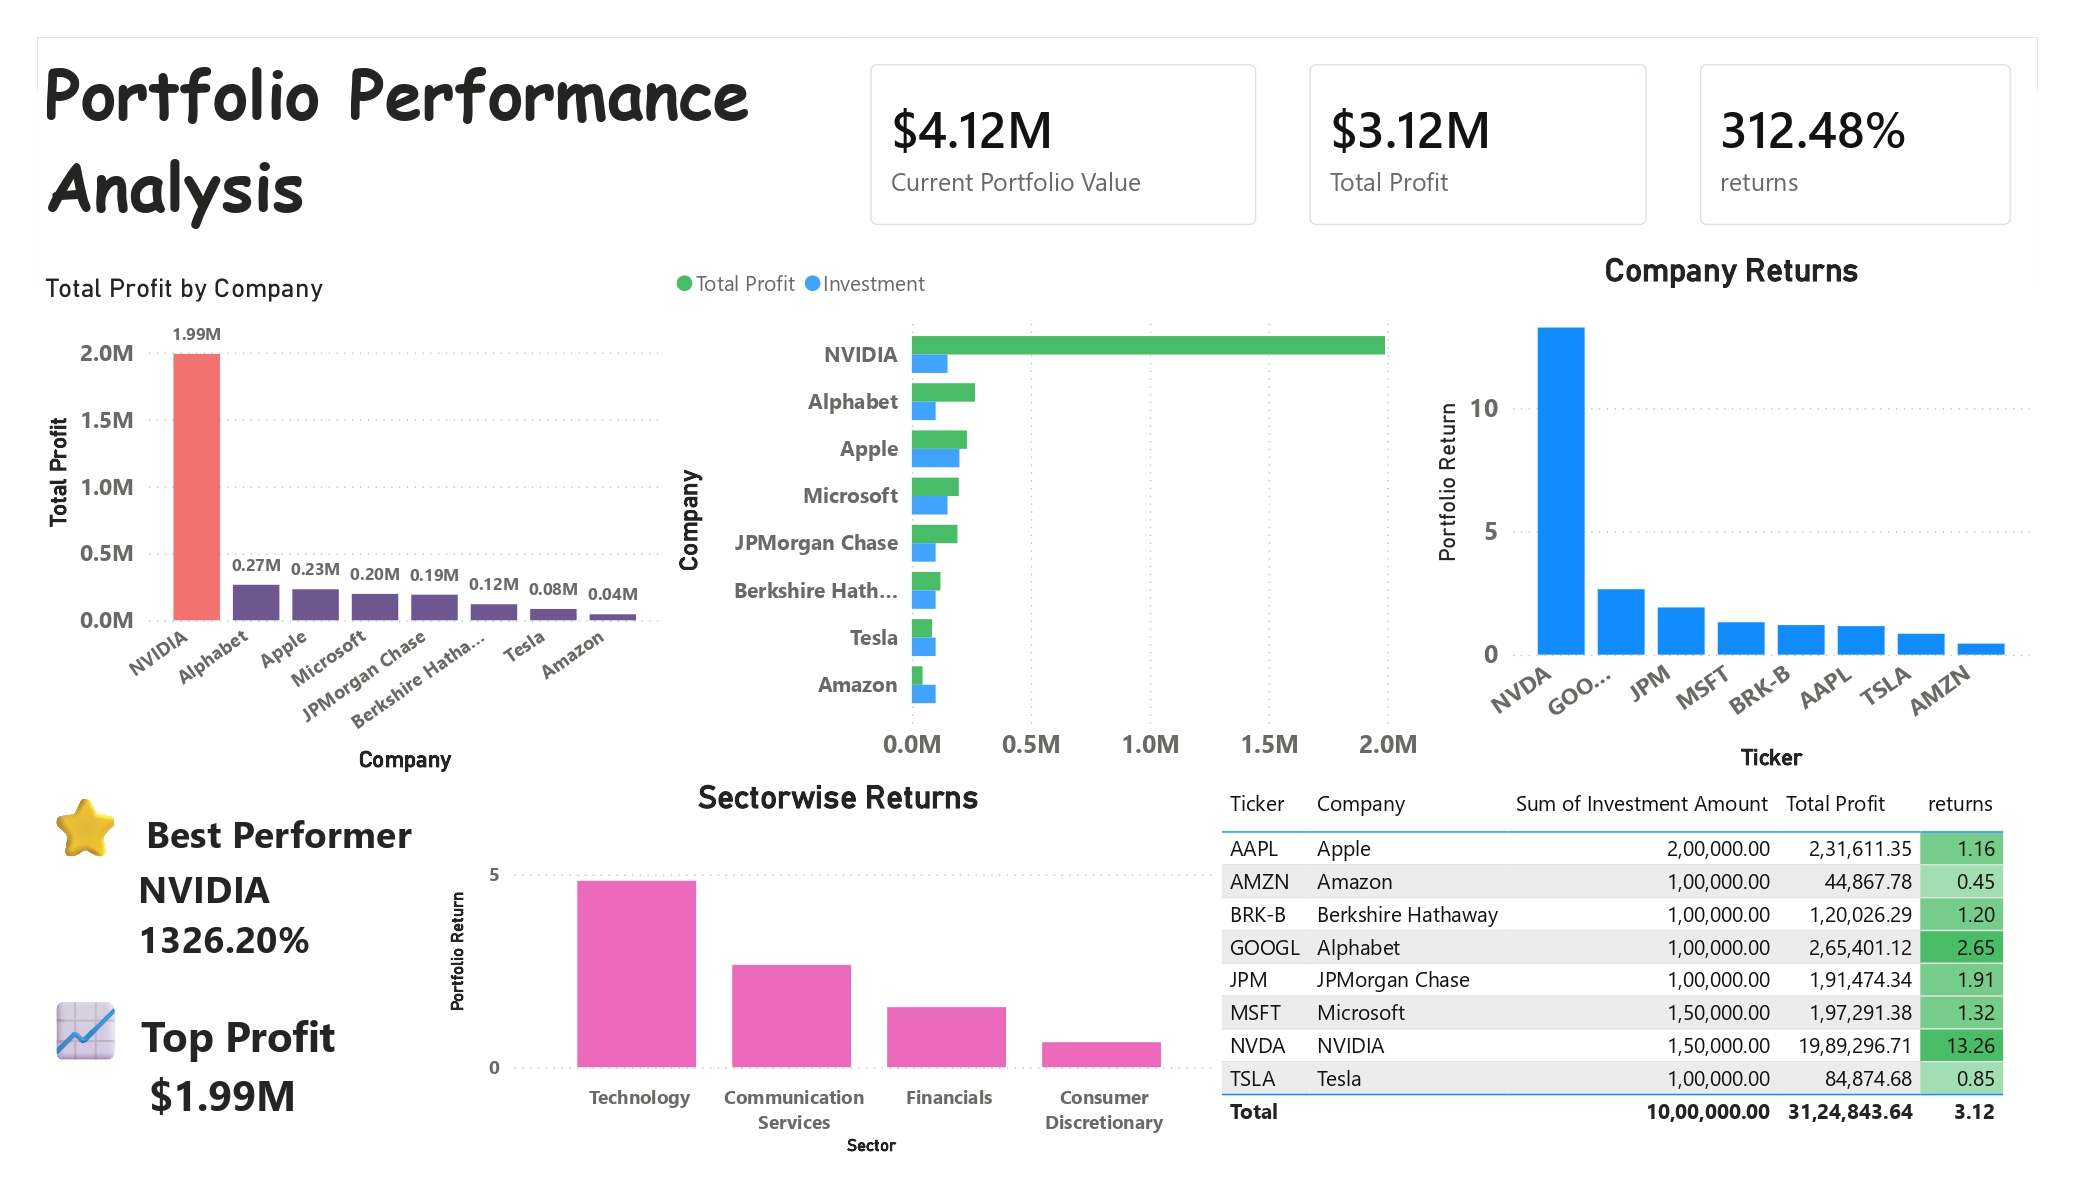

The dashboard page shown, as its layout file describes it:
{"tool":"powerbi","page":{"name":"Page 2","canvas":[1280,720],"ordinal":1},"visuals":[{"type":"cardVisual","fields":{"Data":["portfolio_analysis portfolio_holdings.Current Portfolio Value"]},"box":[515.7,0,281.4,137.1],"z":0},{"type":"cardVisual","fields":{"Data":["portfolio_analysis portfolio_holdings.Total Profit"]},"box":[797.1,0,250,137.1],"z":1000},{"type":"cardVisual","fields":{"Data":["portfolio_analysis portfolio_holdings.returns"]},"box":[1046.7,0,233.3,137.3],"z":2000},{"type":"clusteredColumnChart","fields":{"Y":["portfolio_analysis portfolio_holdings.Total Profit"],"Category":["portfolio_analysis portfolio_holdings.Company"]},"box":[0,150,403.8,325],"z":3000},{"type":"clusteredBarChart","fields":{"Y":["portfolio_analysis portfolio_holdings.Total Profit","portfolio_analysis portfolio_holdings.Total Investment1"],"Category":["portfolio_analysis portfolio_holdings.Company"]},"box":[403.3,136.7,485.6,337.8],"z":4000},{"type":"clusteredColumnChart","title":"Company Returns","fields":{"Category":["portfolio_analysis portfolio_holdings.Ticker"],"Y":["portfolio_analysis portfolio_holdings.returns"]},"box":[888.9,136.7,391.1,337.8],"z":5000},{"type":"clusteredColumnChart","title":" Sectorwise  Returns","fields":{"Category":["portfolio_analysis portfolio_holdings.Sector"],"Y":["portfolio_analysis portfolio_holdings.returns"]},"box":[257.8,474.4,508.9,245.6],"z":6000},{"type":"tableEx","fields":{"Values":["portfolio_analysis portfolio_holdings.Ticker","portfolio_analysis portfolio_holdings.Company","Sum(portfolio_analysis portfolio_holdings.Investment Amount)","portfolio_analysis portfolio_holdings.Total Profit","portfolio_analysis portfolio_holdings.returns"]},"box":[751.7,475,515,245],"z":7000},{"type":"textbox","box":[0,0,515.5,150],"z":8000},{"type":"textbox","box":[0,474.4,257.8,245.6],"z":9000}]}

Visuals, with their boxes on the page's 1280x720 design canvas (x1, y1, x2, y2). These are canvas units, not pixel positions in the 2075x1200 screenshot, which may show the page scaled, cropped or inside an application window:
cardVisual - portfolio_analysis portfolio_holdings.Current Portfolio Value: x1=516, y1=0, x2=797, y2=137
cardVisual - portfolio_analysis portfolio_holdings.Total Profit: x1=797, y1=0, x2=1047, y2=137
cardVisual - portfolio_analysis portfolio_holdings.returns: x1=1047, y1=0, x2=1280, y2=137
clusteredColumnChart - portfolio_analysis portfolio_holdings.Total Profit x portfolio_analysis portfolio_holdings.Company: x1=0, y1=150, x2=404, y2=475
clusteredBarChart - portfolio_analysis portfolio_holdings.Total Profit x portfolio_analysis portfolio_holdings.Total Investment1: x1=403, y1=137, x2=889, y2=474
"Company Returns" clusteredColumnChart: x1=889, y1=137, x2=1280, y2=474
" Sectorwise  Returns" clusteredColumnChart: x1=258, y1=474, x2=767, y2=720
tableEx - portfolio_analysis portfolio_holdings.Ticker x portfolio_analysis portfolio_holdings.Company: x1=752, y1=475, x2=1267, y2=720
textbox: x1=0, y1=0, x2=516, y2=150
textbox: x1=0, y1=474, x2=258, y2=720
